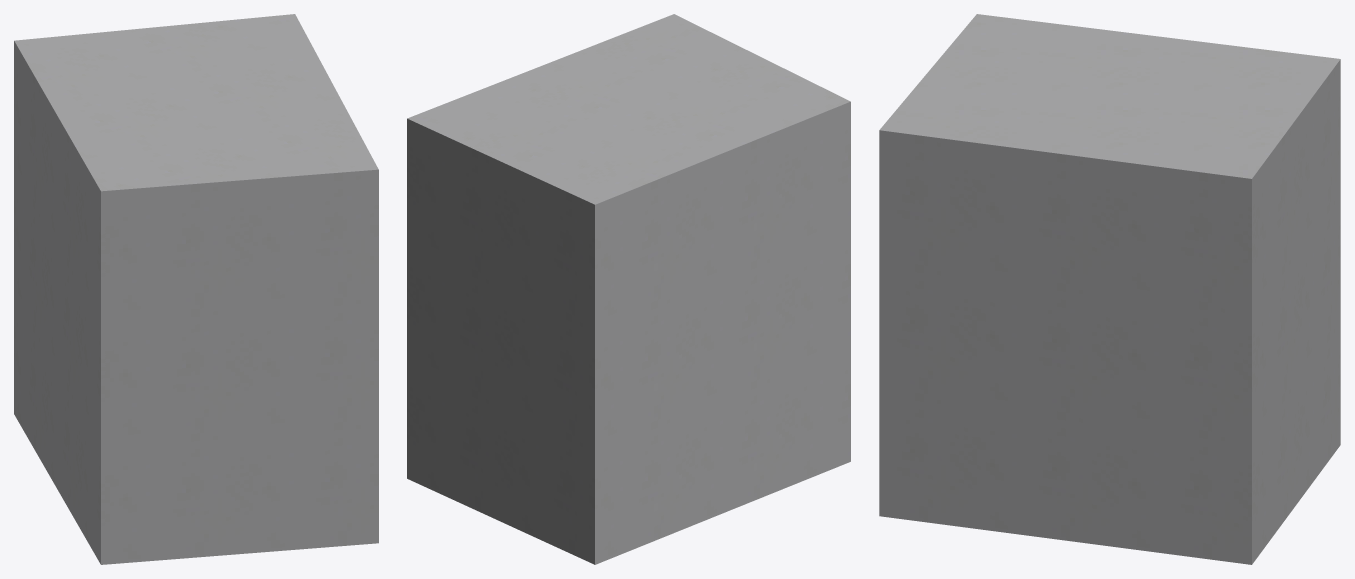
3 renders of one model, left to right at view 1: azimuth 30°, elevation 25°; view 2: azimuth 150°, elevation 25°; view 3: azimuth 270°, elevation 25°, orthographic. The views are drawn at different scales.
Visible parts, largest first — view 1: B288214044101062A0; view 2: B288214044101062A0; view 3: B288214044101062A0.
Part boxes in pixels (bbox=[...]): B288214044101062A0: bbox=[14, 14, 378, 564]; B288214044101062A0: bbox=[407, 14, 850, 564]; B288214044101062A0: bbox=[879, 14, 1340, 564].
Bounding box in the file's own units: 2.75 × 3 × 3.25.
Materials: 1 (1 with a texture image).
